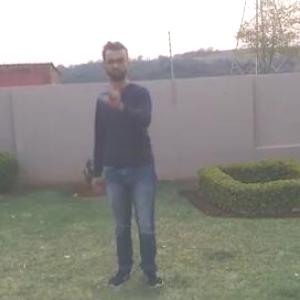land_hand: (97, 75, 128, 114)
